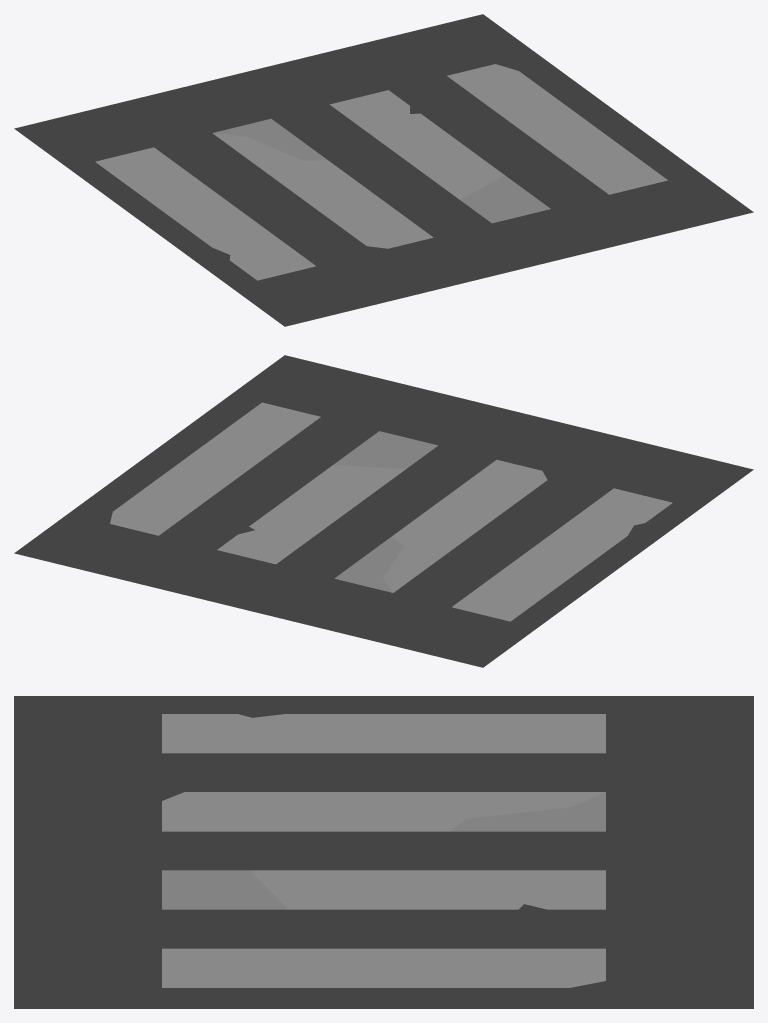
The model's file is SM_Envr_Road_Road_Crosswalk.fbx.
3 renders of one model, top to bottom at view 1: azimuth 30°, elevation 25°; view 2: azimuth 150°, elevation 25°; view 3: azimuth 270°, elevation 25°, orthographic. The views are drawn at different scales.
Parts seen in each view (by area): view 1: SM_Envr_Road_Road_Crosswalk; view 2: SM_Envr_Road_Road_Crosswalk; view 3: SM_Envr_Road_Road_Crosswalk.
Part boxes in pixels (left/top/right/bottom): SM_Envr_Road_Road_Crosswalk: left=14, top=14, right=753, bottom=326; SM_Envr_Road_Road_Crosswalk: left=14, top=355, right=753, bottom=667; SM_Envr_Road_Road_Crosswalk: left=14, top=696, right=753, bottom=1008.
Bounding box in the file's own units: 500 × 0 × 500.
